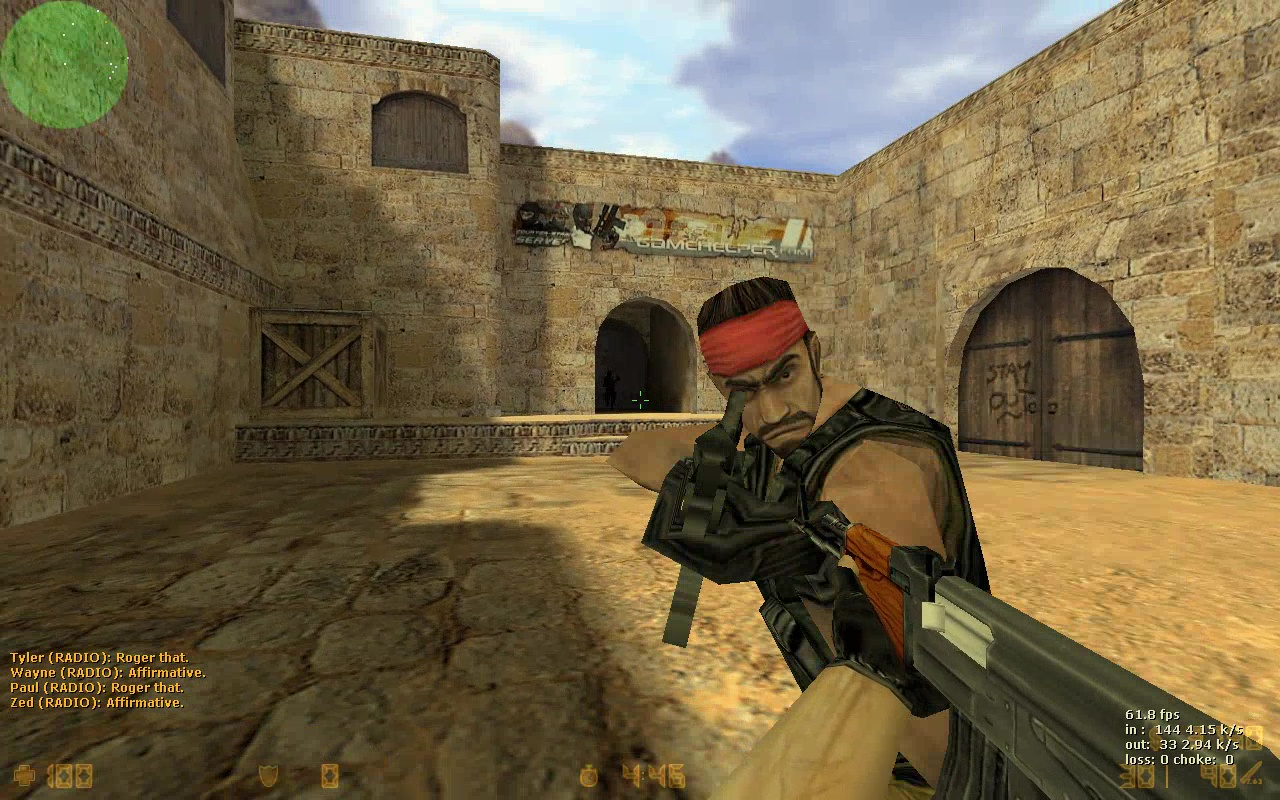terr1: (608, 278, 1015, 776)
